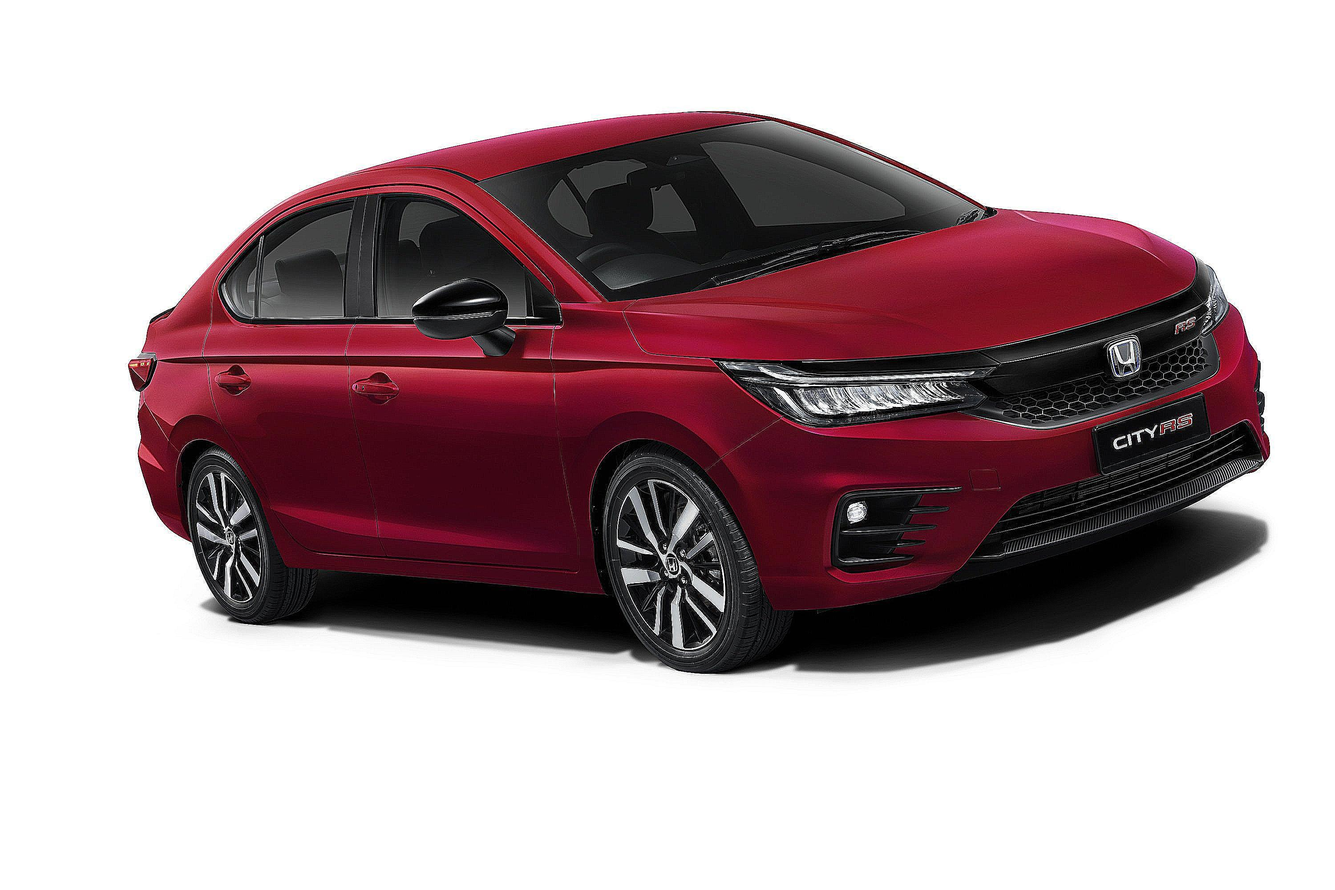Car hood: (623, 200, 1204, 368)
Driver-s door - -F-R-: (353, 168, 583, 577)
Fender - -F-R-: (546, 283, 787, 607)
Fender - -R-R-: (138, 285, 238, 460)
Front bumper: (736, 360, 1302, 619)
Headlight - -L-: (1190, 261, 1245, 349)
Headlight - -R-: (709, 349, 1021, 438)
Passenger-s door - -R-R-: (196, 181, 370, 564)
Rear bumper: (113, 392, 196, 547)
Rear light - -R-: (111, 346, 179, 410)
Side bumper - -R-: (269, 522, 605, 603)
Side mirror - -R-: (389, 271, 522, 370)
